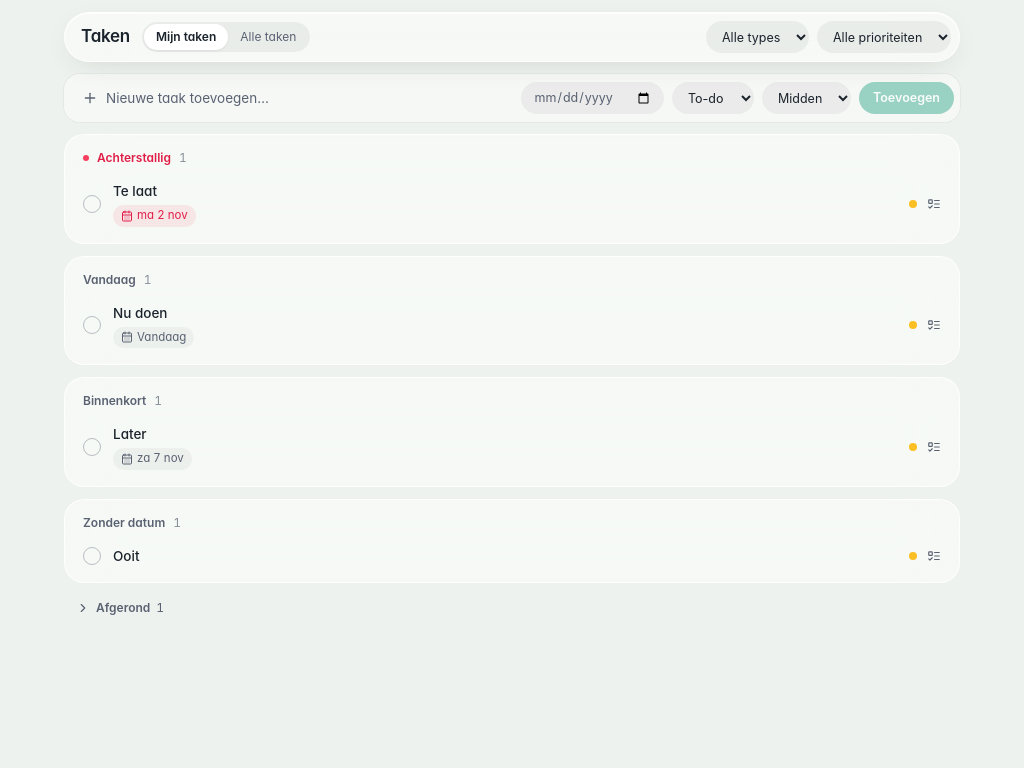
TasksPage › groups tasks into the right sections, closed collapsed
Expected: the button "Te laat" is shown, [113,181,157,201]
Expected: the button "Nu doen" is shown, [113,302,168,323]
Click the button "Afgerond 1": (120, 608) [64,595,176,621]
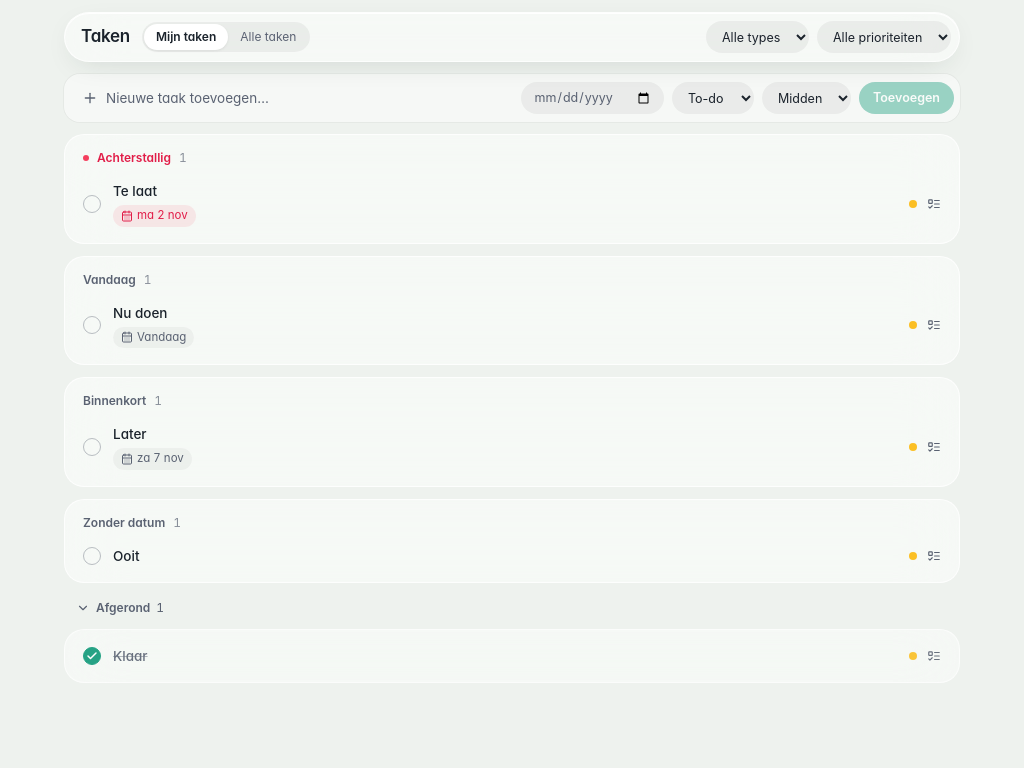
Now the button "Klaar" is shown, box [113,646,148,666]
